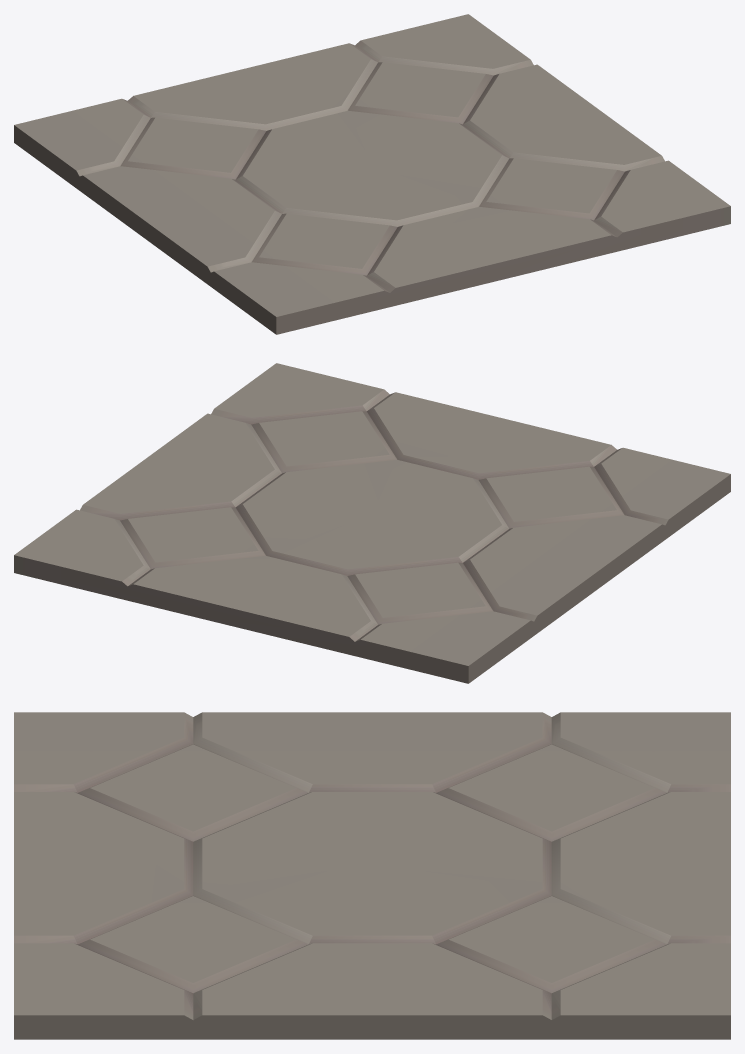
Rendered from floor_tile_large_gltf.glb.
3 views of the same model, one above another, from view 1: azimuth 30°, elevation 25°; view 2: azimuth 150°, elevation 25°; view 3: azimuth 270°, elevation 25° (orthographic). The views are drawn at different scales.
Parts seen in each view (by area): view 1: floor_tile_large; view 2: floor_tile_large; view 3: floor_tile_large.
Boxes of the visible parts, x1,y1,x2,y2 form: floor_tile_large: (14, 14, 730, 334); floor_tile_large: (14, 363, 730, 683); floor_tile_large: (14, 712, 730, 1039).
Bounding box in the file's own units: 4 × 0.1499 × 4.
Materials: 1 (1 with a texture image).
